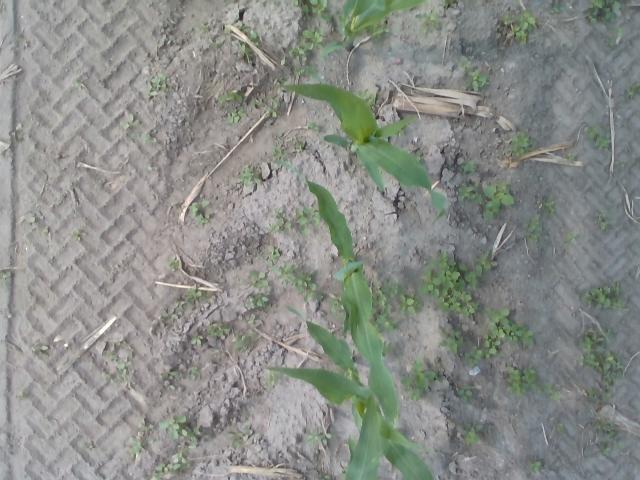Maize: (266, 156, 399, 428), (255, 304, 436, 480), (278, 82, 447, 224), (320, 1, 426, 55)
Weeds: (421, 258, 479, 316), (486, 306, 534, 348), (578, 352, 626, 385), (372, 285, 398, 328), (482, 186, 514, 220), (586, 283, 624, 310), (401, 359, 435, 388), (275, 260, 312, 286), (439, 326, 464, 355), (415, 8, 440, 34), (484, 327, 504, 358), (298, 206, 320, 234), (158, 416, 185, 438), (594, 0, 622, 20), (508, 366, 526, 396), (460, 422, 484, 444), (305, 426, 331, 445), (302, 28, 323, 51), (510, 132, 530, 156), (237, 167, 261, 186), (293, 0, 327, 12), (207, 322, 230, 339), (297, 283, 317, 302), (398, 294, 418, 313), (248, 292, 269, 310), (124, 437, 146, 454), (518, 11, 536, 30), (248, 270, 268, 287), (106, 370, 130, 384), (119, 113, 140, 129), (457, 183, 475, 201), (522, 364, 536, 387), (182, 426, 202, 442), (233, 334, 253, 350), (594, 421, 616, 435), (170, 452, 187, 470), (464, 346, 480, 365), (428, 251, 447, 267), (146, 77, 162, 95), (474, 255, 492, 271), (264, 100, 280, 118), (267, 245, 280, 267), (405, 387, 425, 401), (181, 289, 203, 301), (228, 432, 243, 449), (288, 45, 304, 60), (358, 88, 375, 102), (192, 199, 210, 212), (195, 213, 214, 225), (595, 134, 610, 149), (263, 372, 279, 386), (462, 158, 476, 174), (184, 366, 201, 379), (433, 358, 442, 382), (155, 464, 170, 478), (161, 366, 178, 378), (590, 329, 604, 343), (580, 336, 594, 350), (243, 424, 254, 441), (272, 146, 287, 158), (529, 214, 540, 230), (332, 295, 341, 314), (236, 20, 249, 33), (460, 388, 472, 402), (71, 229, 86, 240), (516, 29, 527, 44), (116, 360, 132, 370), (162, 310, 178, 320), (218, 94, 234, 104), (138, 419, 154, 429), (278, 218, 291, 230), (190, 334, 203, 346), (537, 384, 552, 394), (586, 126, 598, 138), (626, 84, 638, 96), (238, 44, 250, 56), (370, 24, 383, 35), (588, 0, 602, 10), (473, 75, 487, 85), (249, 31, 259, 44), (227, 112, 239, 122), (169, 258, 179, 270), (612, 440, 624, 450), (585, 12, 597, 22), (32, 345, 49, 352), (157, 73, 166, 86), (0, 270, 7, 286), (272, 207, 282, 218), (601, 444, 611, 455), (595, 212, 607, 221), (82, 441, 95, 449), (458, 61, 471, 69), (109, 352, 119, 362), (614, 24, 624, 34), (510, 24, 520, 34), (309, 122, 320, 131), (171, 301, 185, 308), (144, 134, 156, 142), (16, 390, 26, 399), (74, 80, 84, 89), (566, 231, 575, 241), (498, 181, 507, 191), (469, 70, 478, 80), (295, 140, 304, 150), (530, 462, 541, 470), (268, 224, 280, 231), (440, 0, 454, 6), (473, 193, 482, 202), (568, 152, 577, 161), (503, 15, 512, 24), (198, 24, 208, 32), (236, 94, 246, 102), (606, 329, 614, 339), (596, 344, 606, 352), (589, 390, 597, 400), (529, 234, 539, 242), (599, 220, 607, 230), (317, 474, 330, 480), (237, 109, 247, 116), (550, 7, 560, 14), (42, 227, 50, 235), (390, 285, 398, 293), (22, 40, 28, 50), (545, 202, 554, 208), (605, 390, 612, 397), (554, 393, 560, 400), (29, 216, 35, 222), (558, 423, 564, 429), (212, 43, 219, 48)
